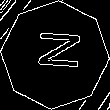N_W: (29, 33, 81, 77)
